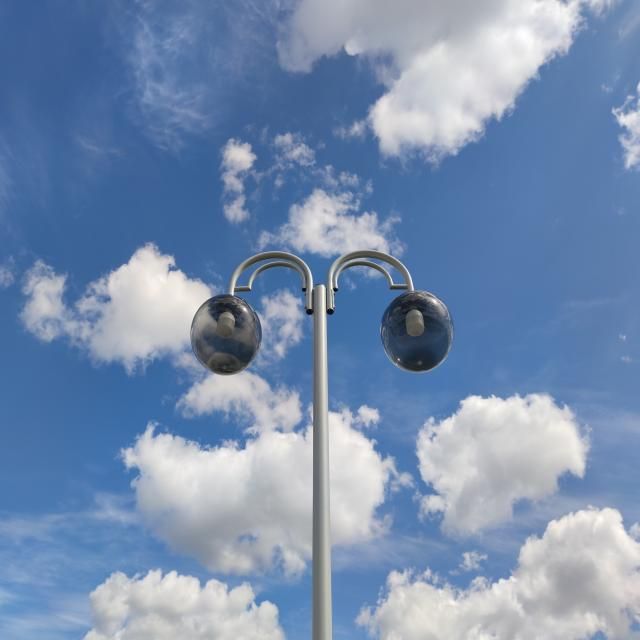Street Light: (188, 248, 454, 640)
